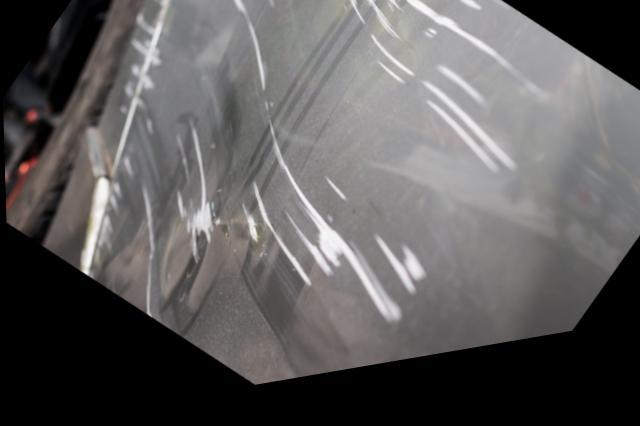scratch: (60, 0, 543, 344)
